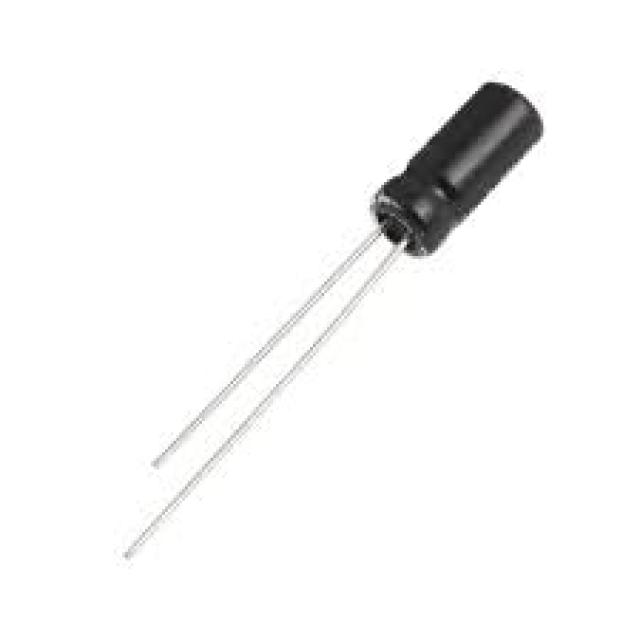Capacitor: (114, 82, 546, 566)
